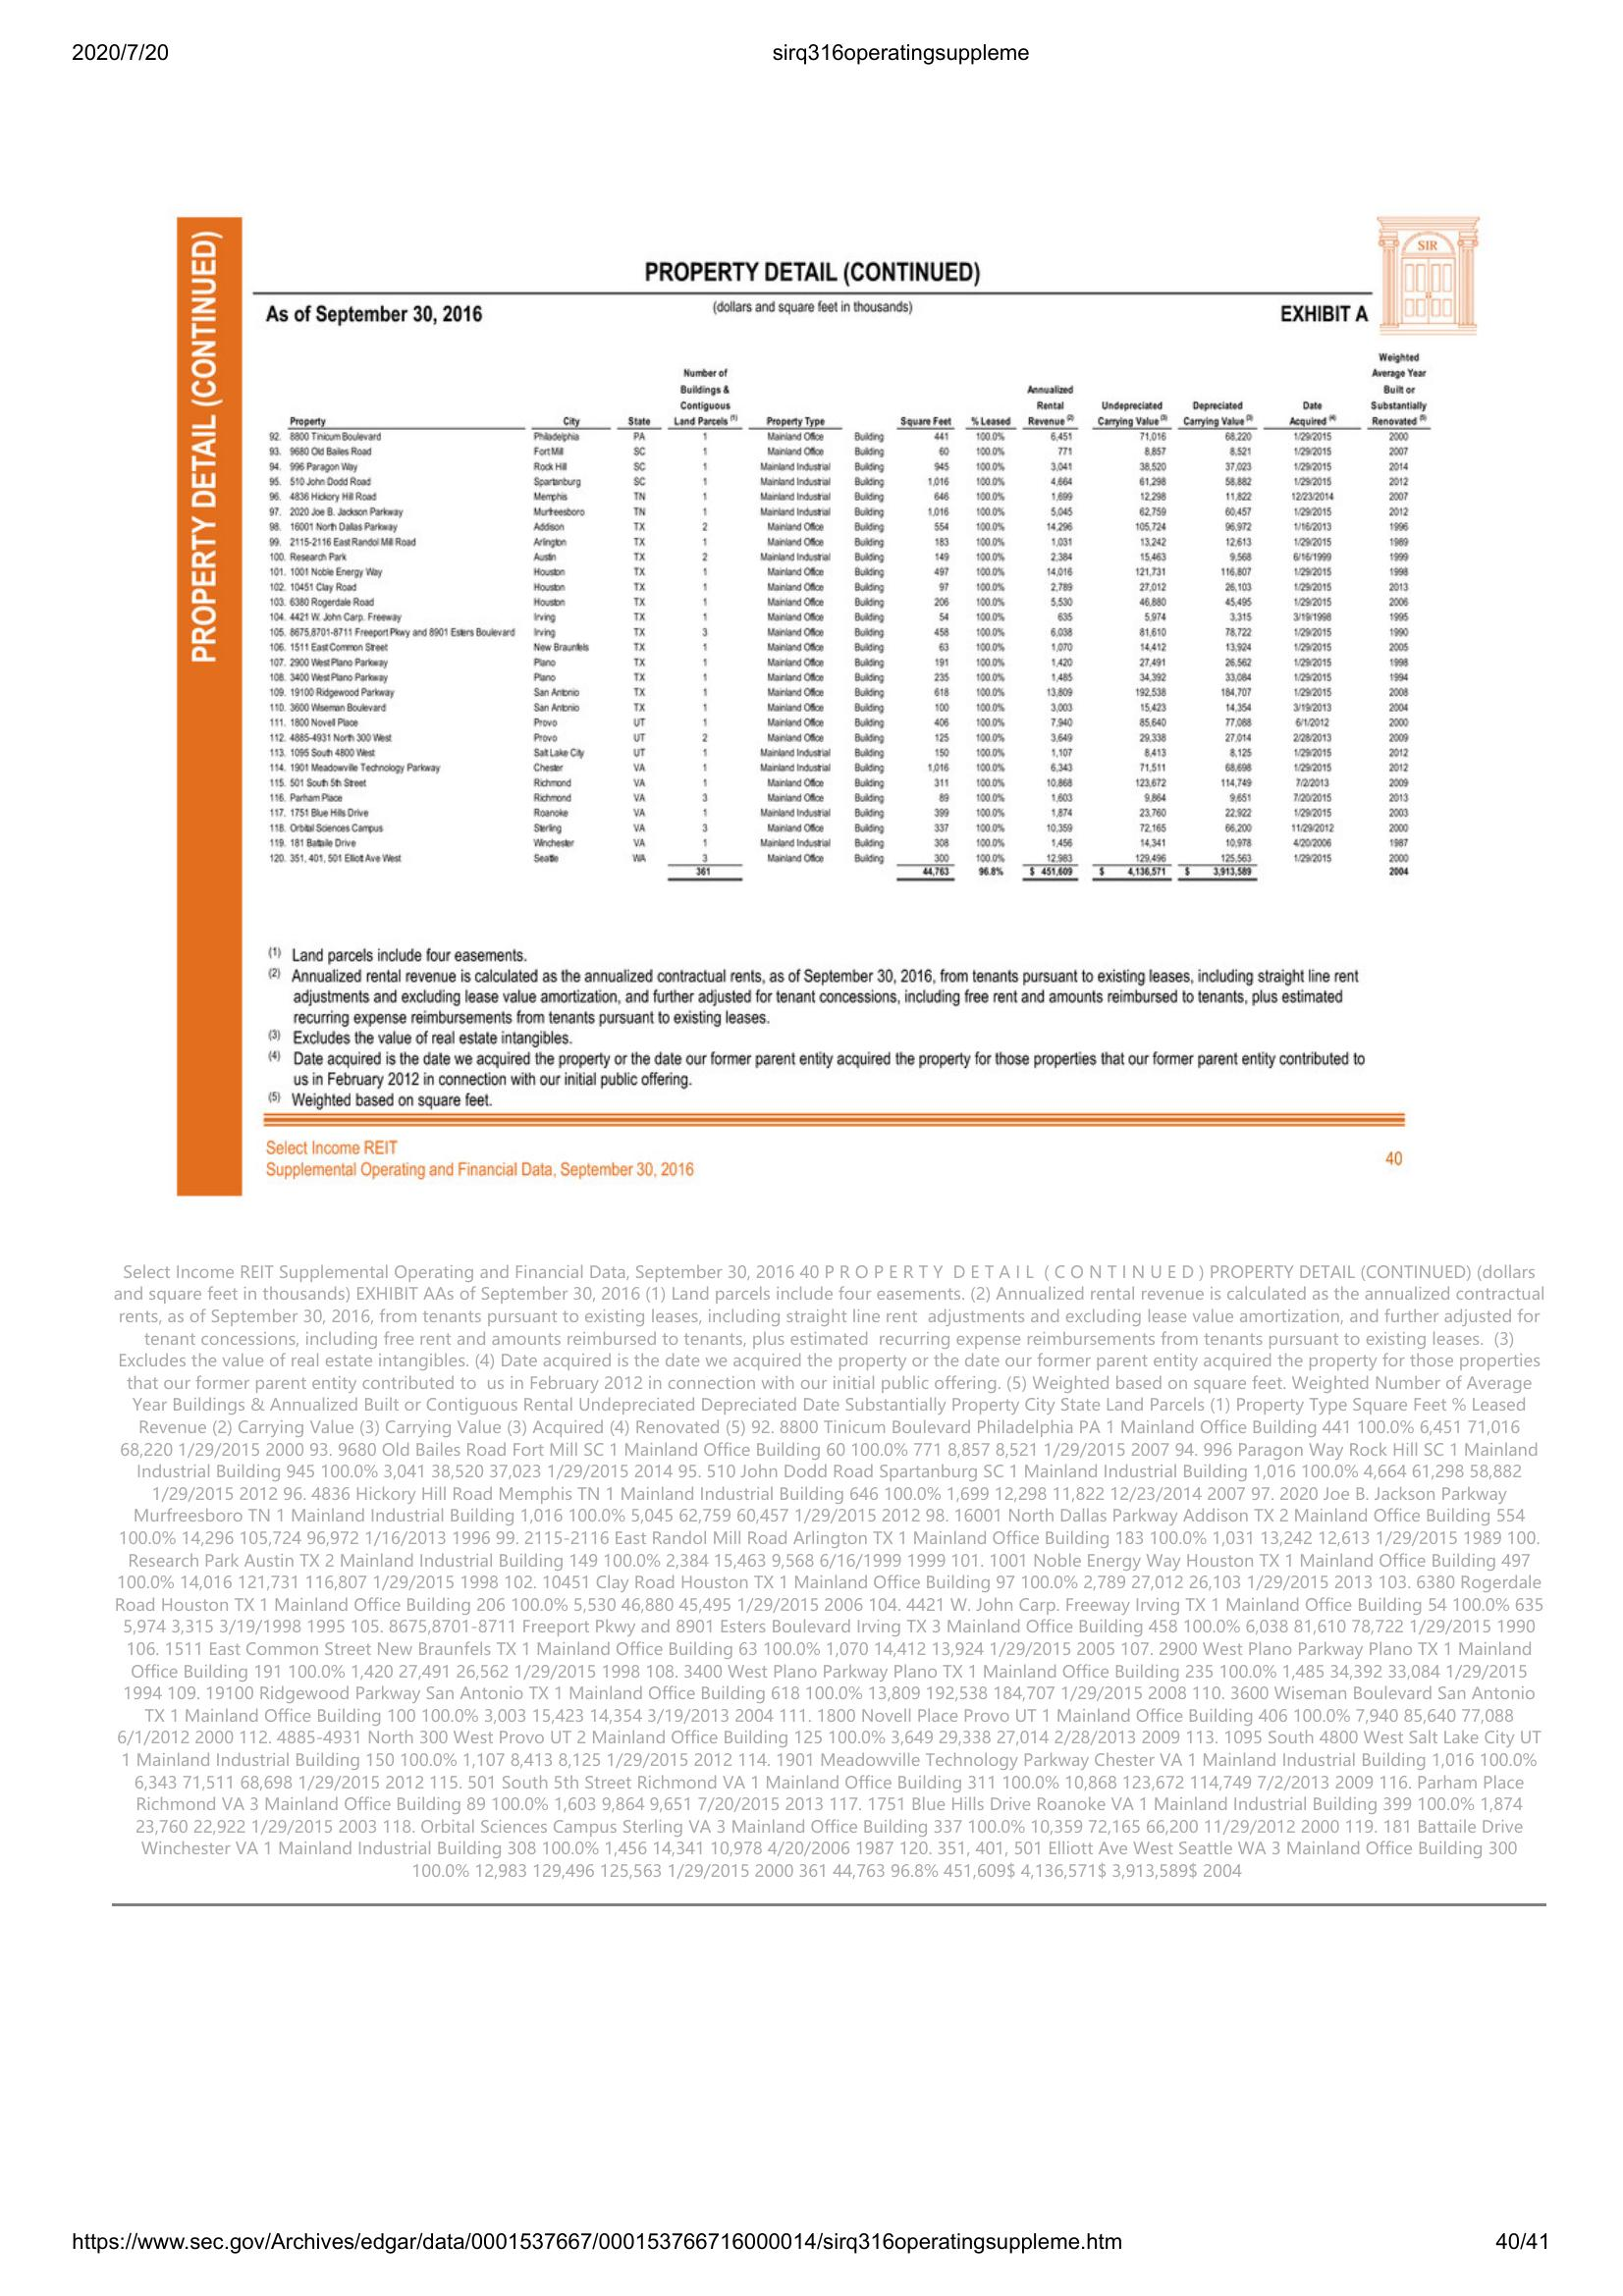table: (269, 346, 1435, 893)
